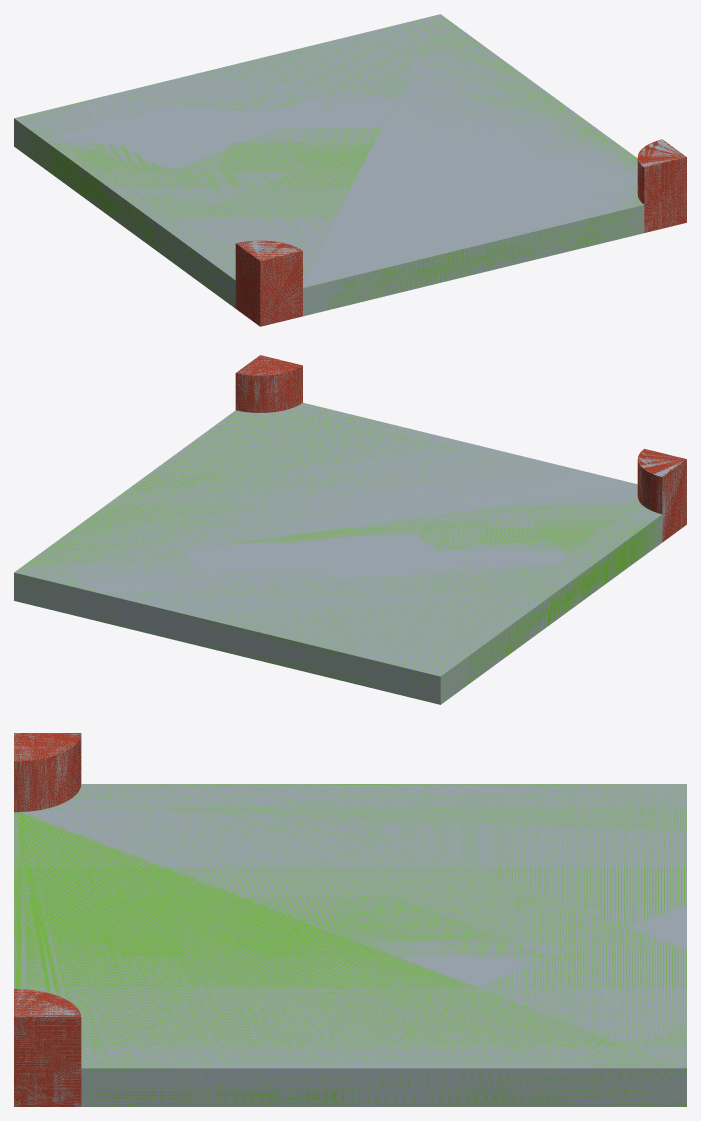
File: Walls_to_open_01.fbx
3 renders of one model, top to bottom at view 1: azimuth 30°, elevation 25°; view 2: azimuth 150°, elevation 25°; view 3: azimuth 270°, elevation 25°, orthographic. The views are drawn at different scales.
Visible parts, largest first — view 1: Mesh1_Walls_to_open Model; view 2: Mesh1_Walls_to_open Model; view 3: Mesh1_Walls_to_open Model.
Part boxes in pixels (x1,y1,x2,y2): Mesh1_Walls_to_open Model: [14, 14, 686, 326]; Mesh1_Walls_to_open Model: [14, 355, 686, 704]; Mesh1_Walls_to_open Model: [14, 733, 686, 1106].
Bounding box in the file's own units: 3 × 0.44 × 3.
